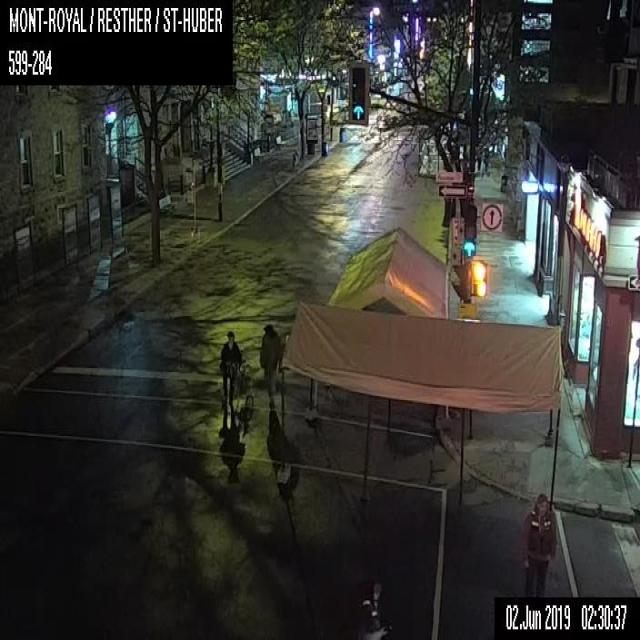pedestrian: (521, 493, 556, 596), (219, 330, 253, 412), (354, 573, 392, 639), (259, 323, 282, 409)
